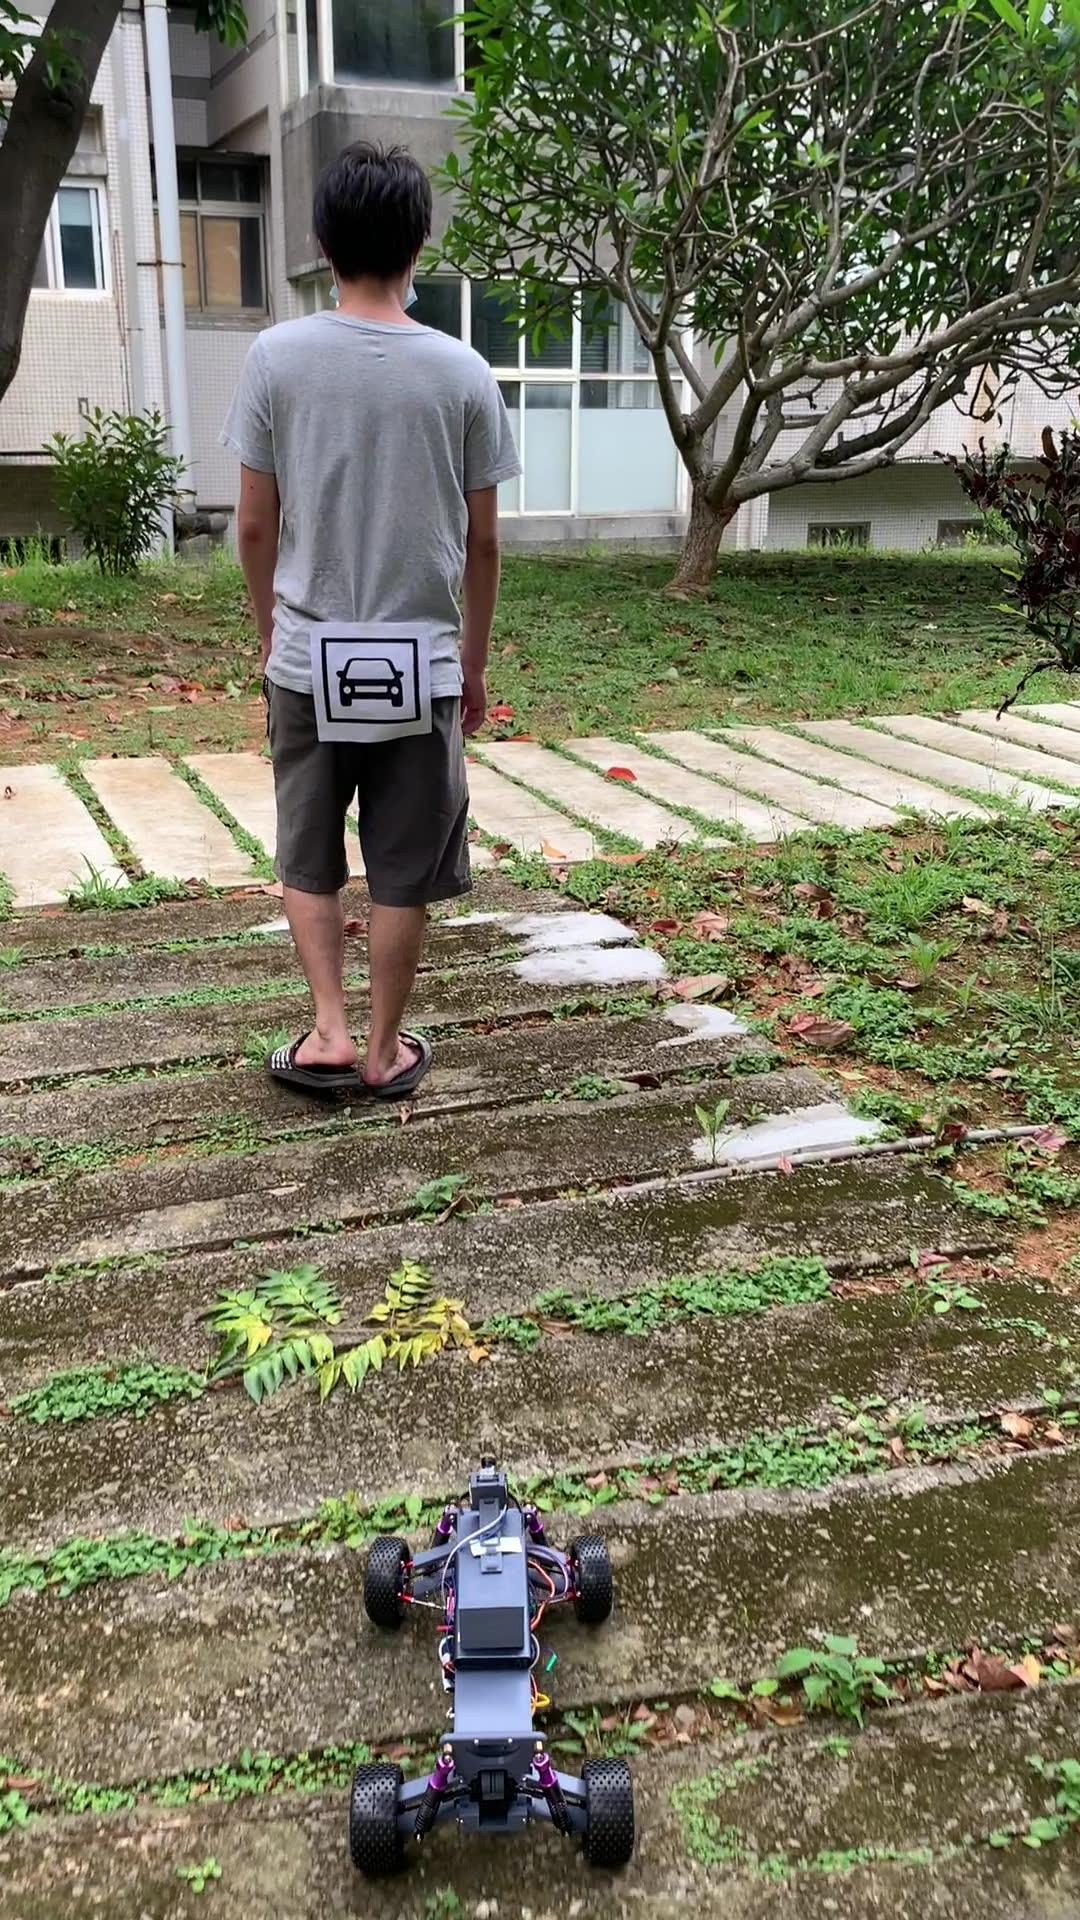car_img: (320, 637, 421, 724)
